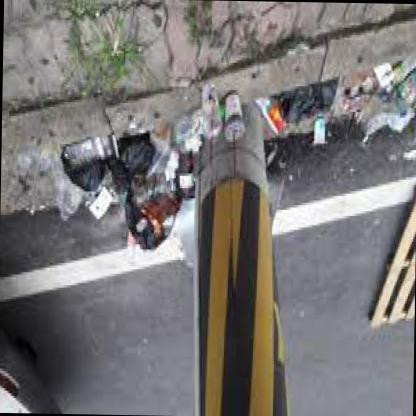Garbage: (101, 164, 182, 257), (260, 68, 344, 148), (60, 129, 116, 224), (356, 60, 414, 142), (194, 83, 249, 156), (135, 110, 183, 163)
